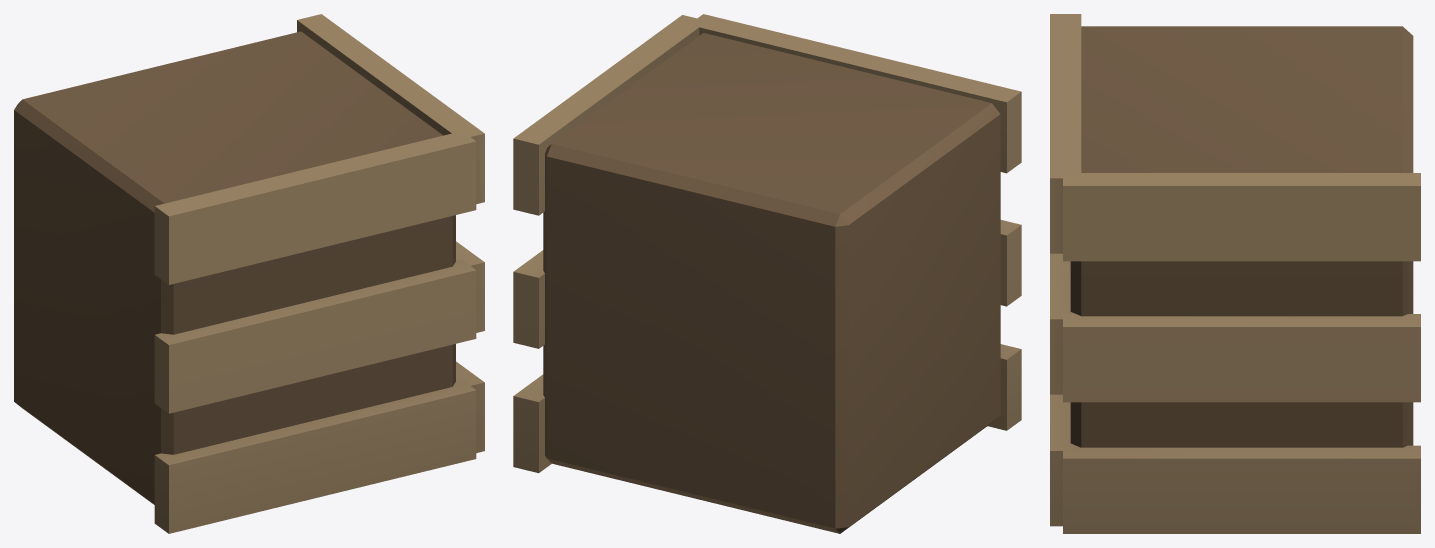
Rendered from crate.glb.
3 views of the same model, side by side, from view 1: azimuth 30°, elevation 25°; view 2: azimuth 150°, elevation 25°; view 3: azimuth 270°, elevation 25° (orthographic). The views are drawn at different scales.
Parts seen in each view (by area): view 1: crate; view 2: crate; view 3: crate.
Part boxes in pixels (x1,y1,x2,y2): crate: [14, 14, 484, 533]; crate: [513, 14, 1021, 533]; crate: [1050, 14, 1420, 533].
Size of the model in its own units: 0.785 by 0.74 by 0.715.
